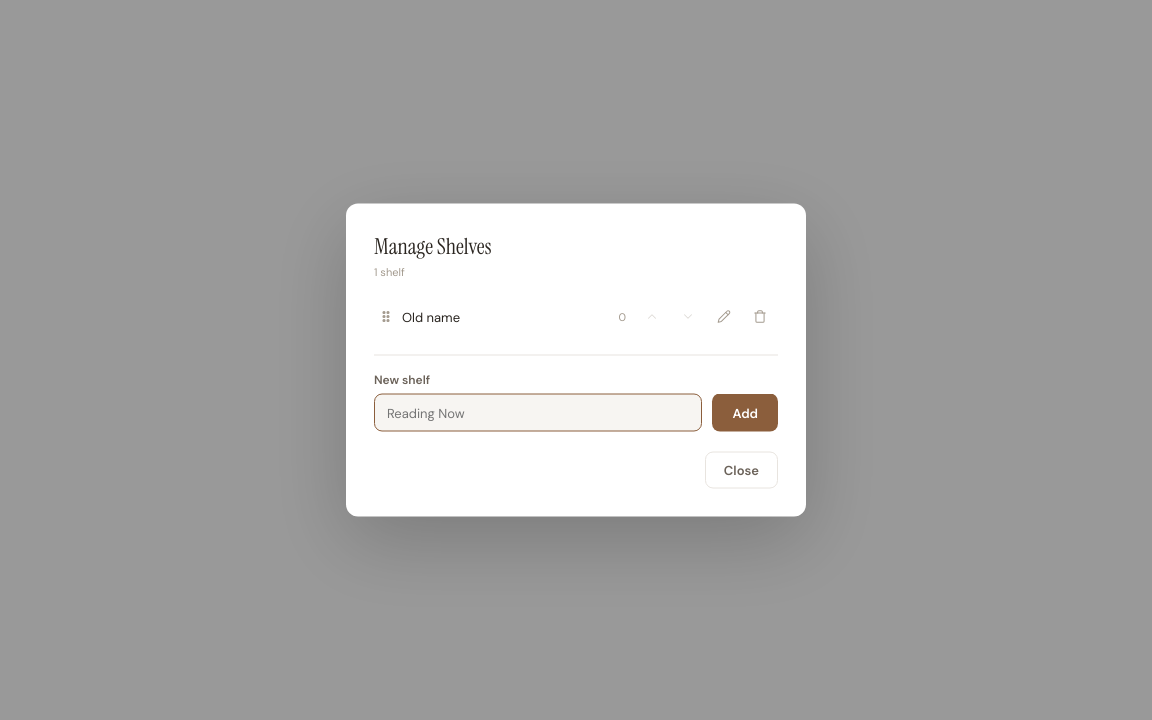
ShelfManager › starts a second edit from the stored name, not the abandoned one
The width and height of the screenshot is (1152, 720).
Expected: the text "Old name" is shown, [402,308,460,325]
Click the button named "Edit Old name". click: (724, 316)
box: [710,302,738,330]
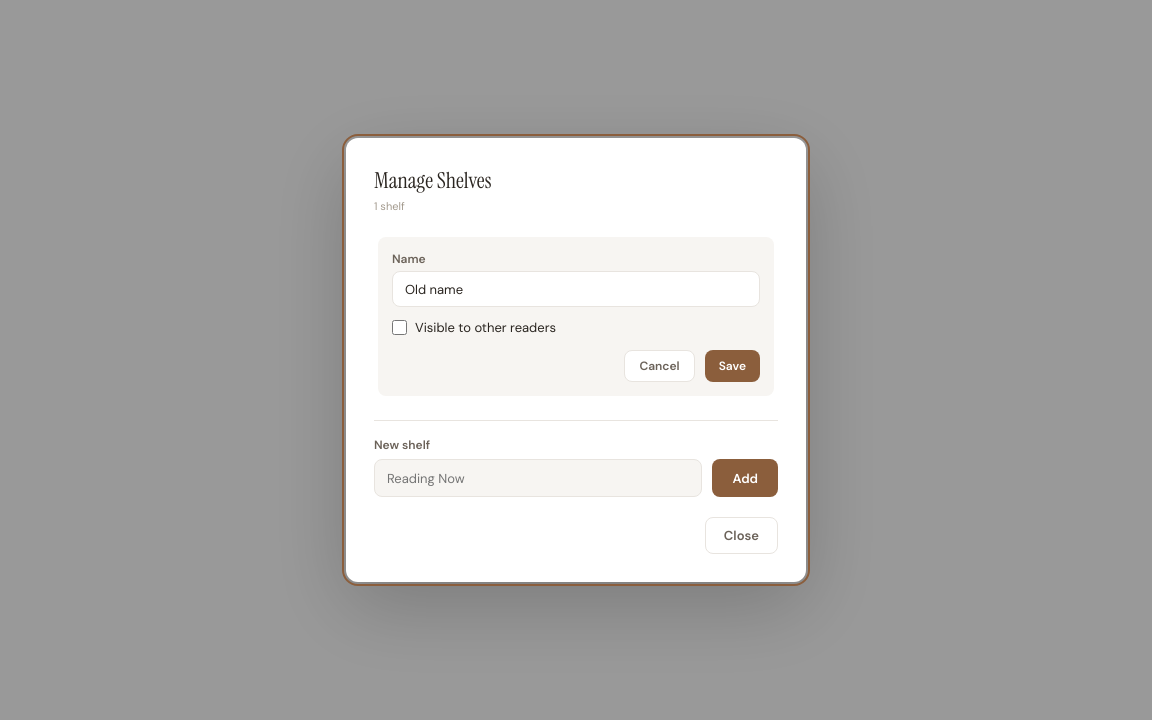
Replace the text in the field labelled "Name" with "Abandoned". click: (576, 289)
box: [392,271,760,307]
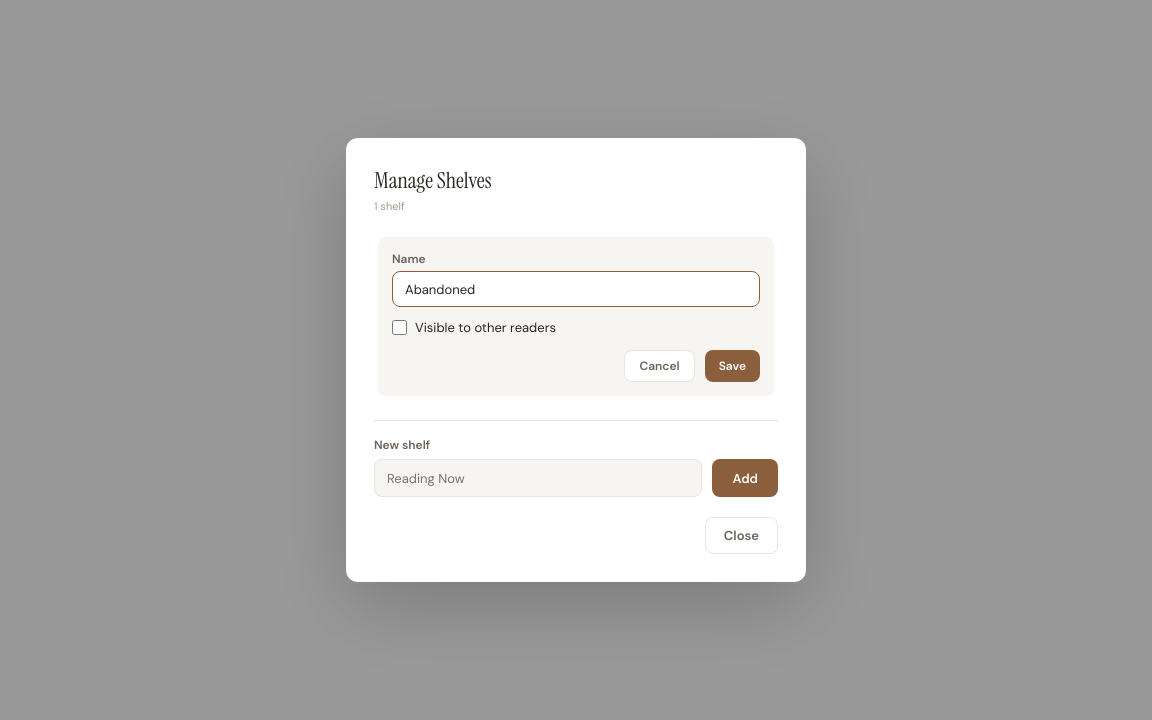
Click the button "Cancel". click: (660, 366)
box: [624,350,695,382]
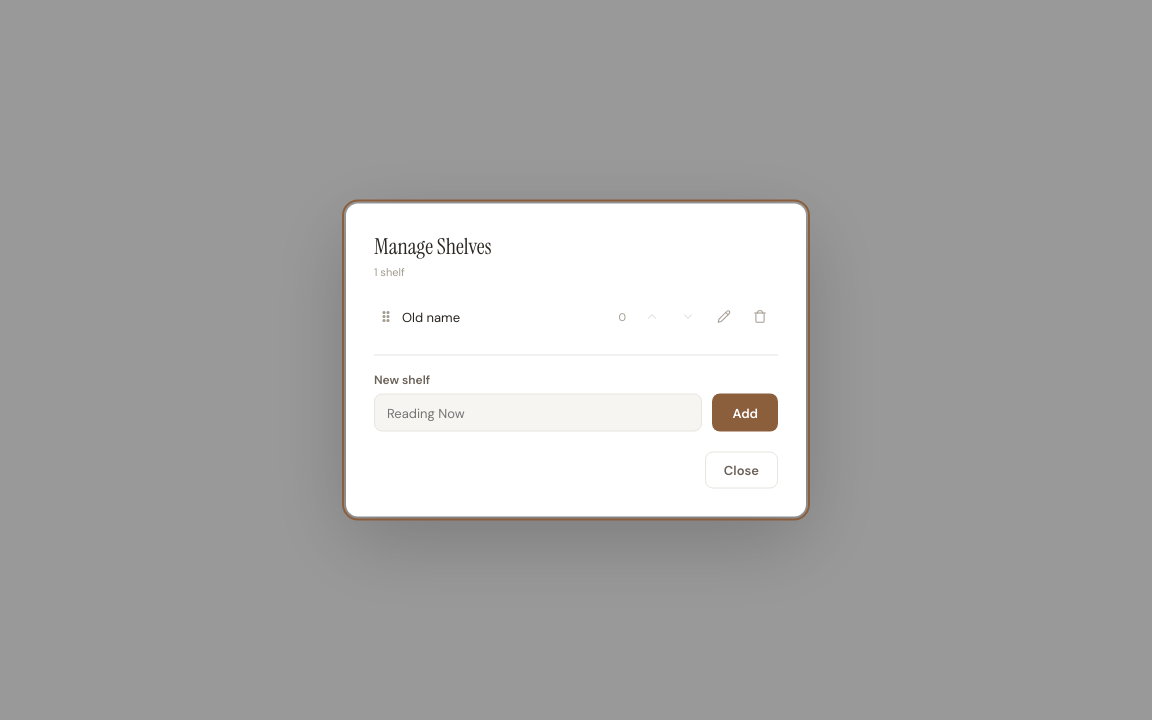
Click the button named "Edit Old name". click: (724, 316)
box: [710,302,738,330]
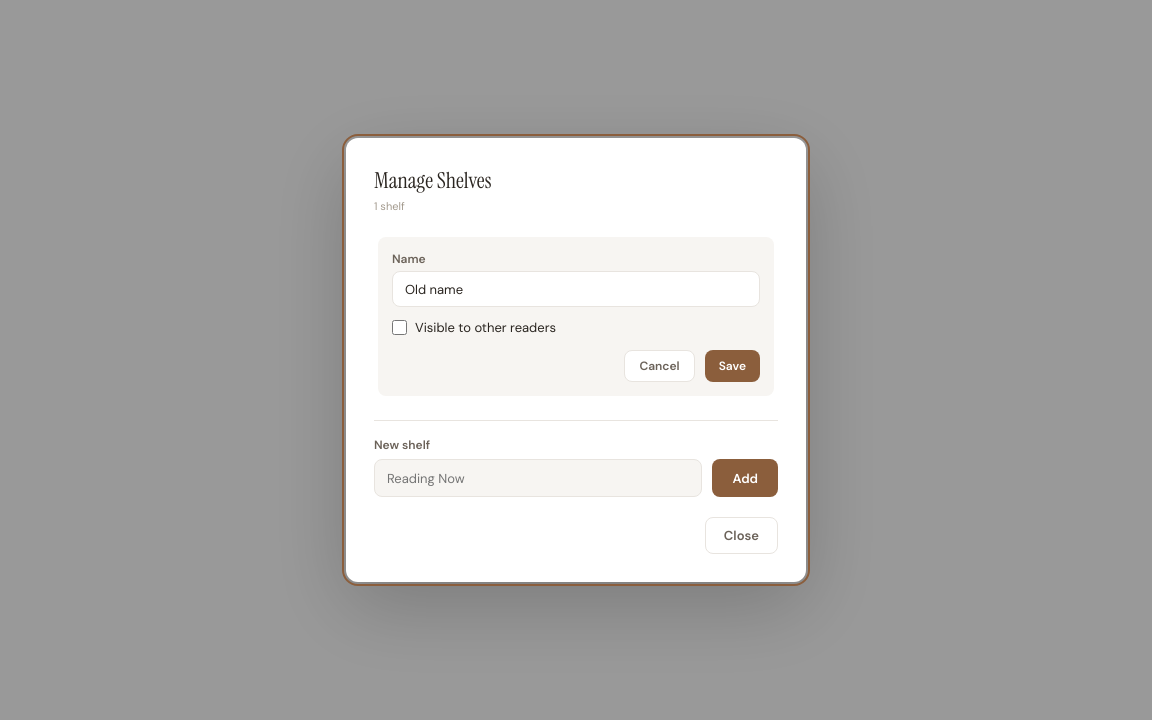
Result: the field labelled "Name" holds "Old name" at [392,271,760,307]
